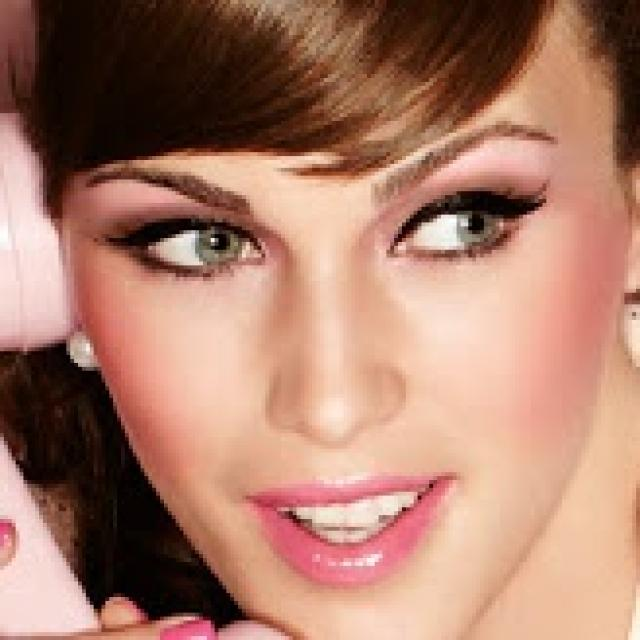Normal: (60, 0, 629, 636)
